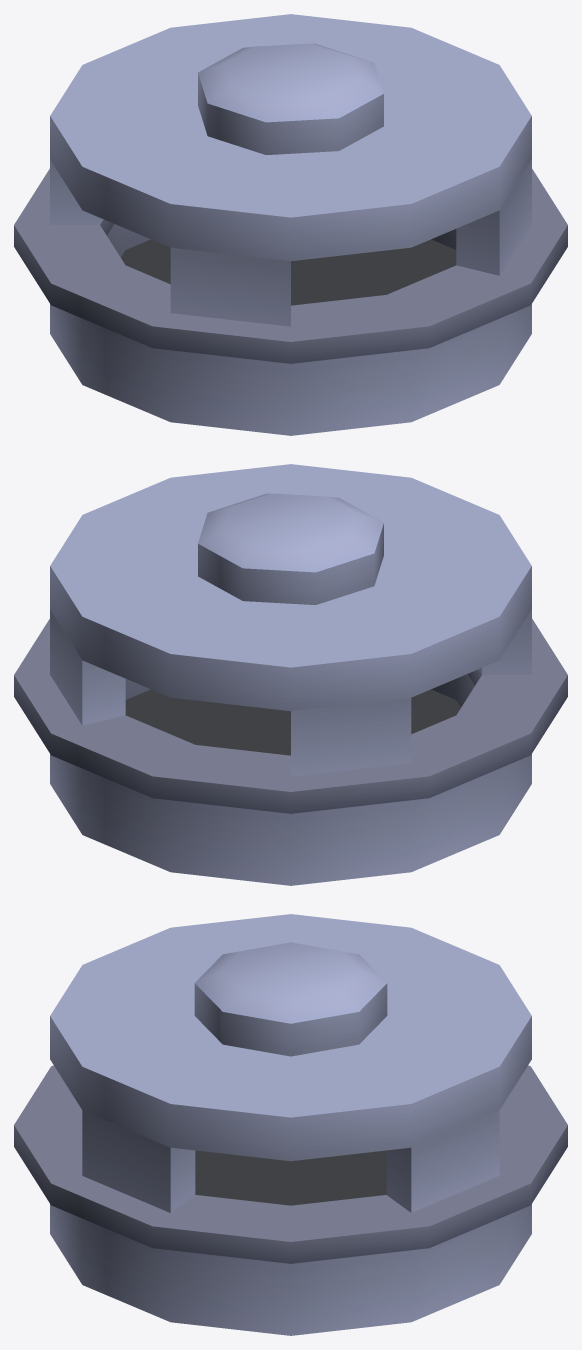
File: tower-round-middle-c.glb
3 renders of one model, top to bottom at view 1: azimuth 30°, elevation 25°; view 2: azimuth 150°, elevation 25°; view 3: azimuth 270°, elevation 25°, orthographic.
Visible parts, largest first — view 1: tower-round-middle-c; view 2: tower-round-middle-c; view 3: tower-round-middle-c.
Part boxes in pixels (left/top/right/bottom): tower-round-middle-c: left=14, top=14, right=567, bottom=435; tower-round-middle-c: left=14, top=464, right=567, bottom=885; tower-round-middle-c: left=14, top=914, right=567, bottom=1335.
Size of the model in its own units: 1.15 by 0.6001 by 1.15.
Materials: 1 (1 with a texture image).
